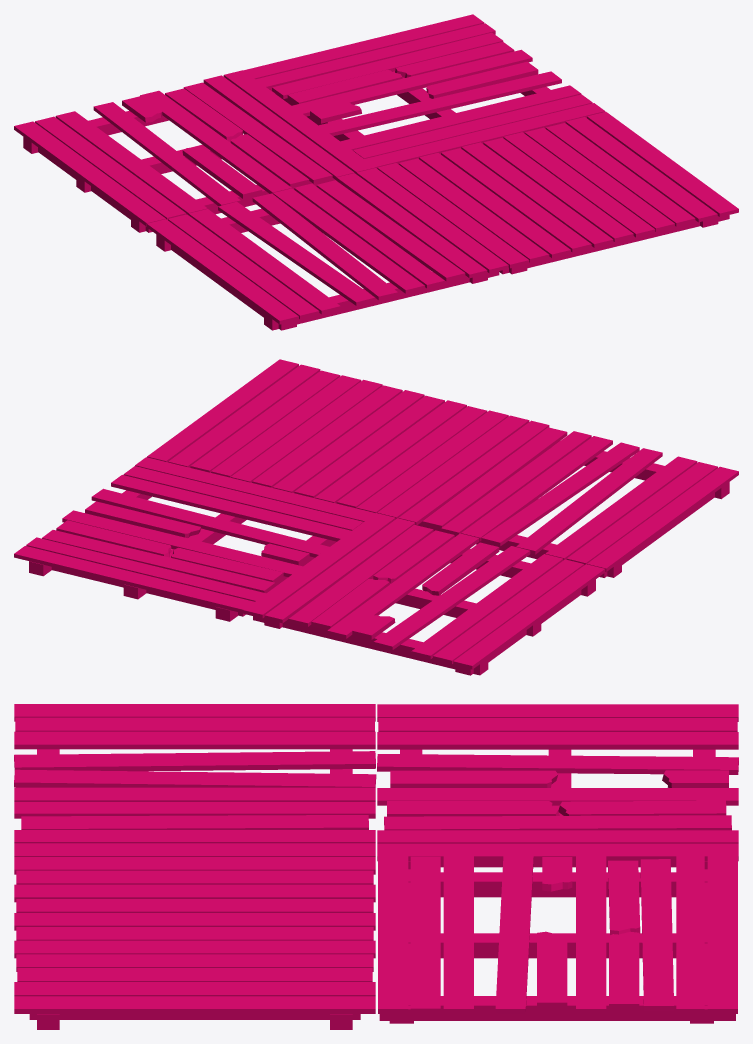
File: Bastion_Floor_06_Lod0.fbx
3 renders of one model, top to bottom at view 1: azimuth 30°, elevation 25°; view 2: azimuth 150°, elevation 25°; view 3: azimuth 270°, elevation 25°, orthographic. The views are drawn at different scales.
Visible parts, largest first — view 1: Bastion_Floor_06_Lod0; view 2: Bastion_Floor_06_Lod0; view 3: Bastion_Floor_06_Lod0.
Part boxes in pixels (x1=…): Bastion_Floor_06_Lod0: x1=14, y1=14, x2=738, y2=330; Bastion_Floor_06_Lod0: x1=14, y1=359, x2=738, y2=675; Bastion_Floor_06_Lod0: x1=14, y1=704, x2=738, y2=1029.
Bounding box in the file's own units: 598 × 22.97 × 601.
